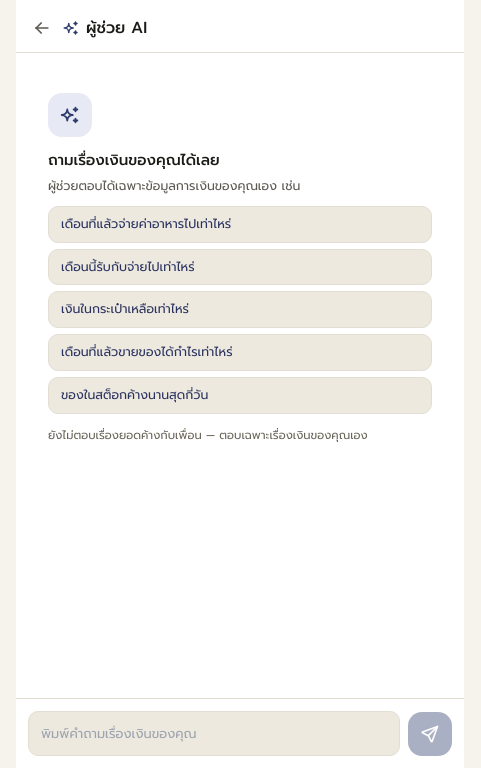
it: errors reach the user › a successful send renders the assistant reply (first send carries empty history)
Type "จ่ายเท่าไหร่" into the text box labelled "พิมพ์คำถาม" at (214, 733), box top-left (28, 710), bottom-right (400, 756)
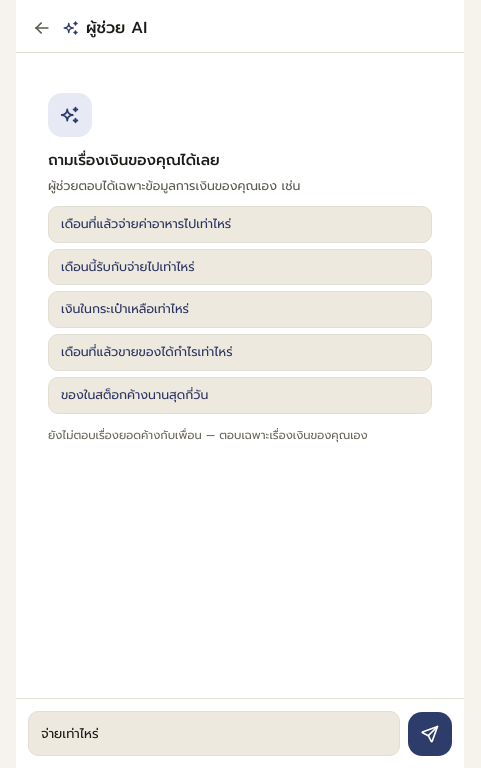
Click the button named "ส่งคำถาม" at (430, 734), box top-left (408, 712), bottom-right (452, 756)
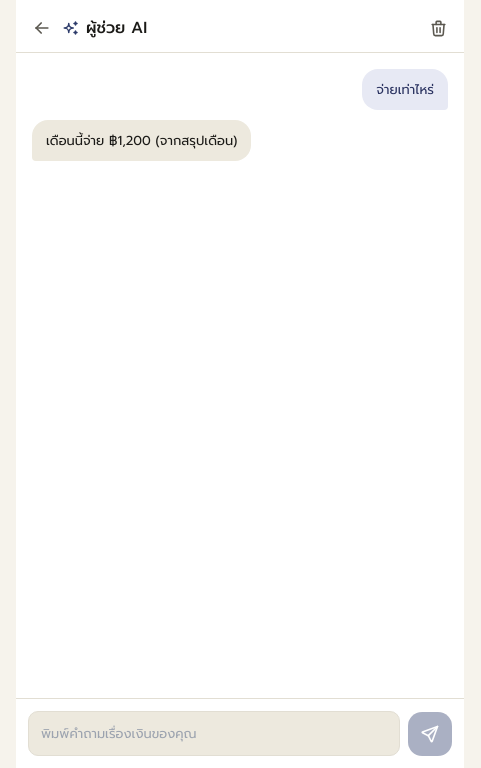
Expected: the text "เดือนนี้จ่าย ฿1,200 (จากสรุปเดือน)" is shown, top-left (32, 120), bottom-right (251, 161)
